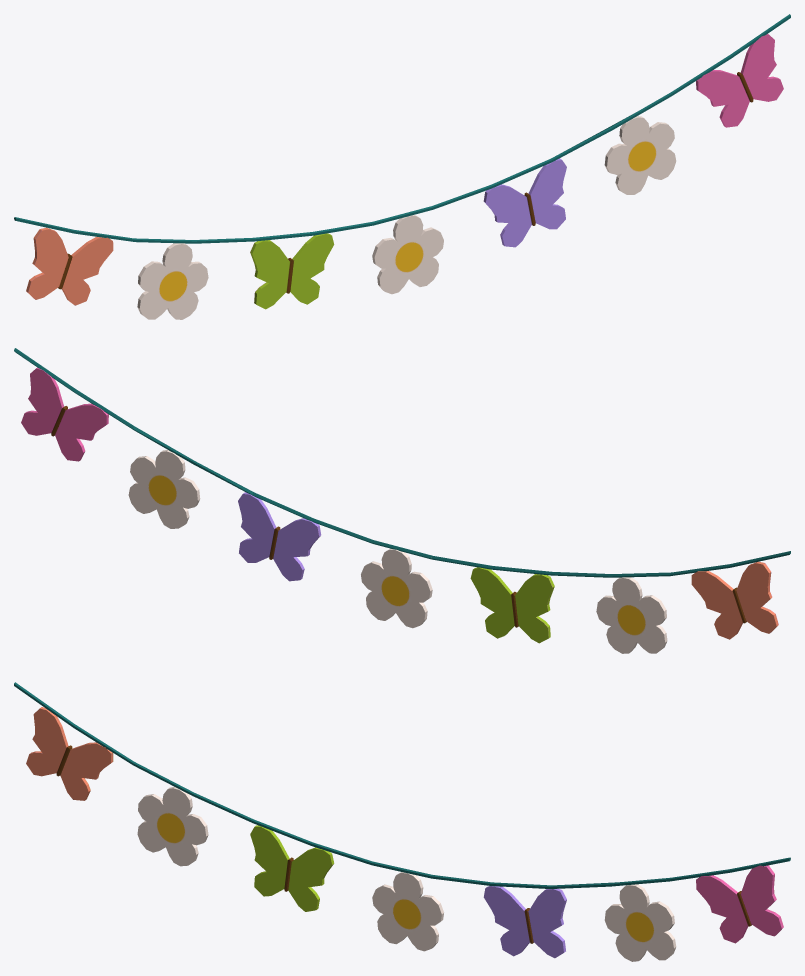
Rendered from ButterflyFlowerBanner01.fbx.
3 renders of one model, top to bottom at view 1: azimuth 30°, elevation 25°; view 2: azimuth 150°, elevation 25°; view 3: azimuth 330°, elevation 25°, orthographic.
Parts seen in each view (by area): view 1: Cube.083, Cube.085, Cube.087, Cube.089, Cube.084, Cube.086, Cube.088, Cylinder.070; view 2: Cube.083, Cube.085, Cube.087, Cube.089, Cube.084, Cube.086, Cube.088, Cylinder.070; view 3: Cube.085, Cube.083, Cube.087, Cube.089, Cube.088, Cube.084, Cube.086, Cylinder.070.
Boxes of the visible parts, box(x1,y1,x2,y2) form: Cube.083: box(26, 227, 113, 305); Cube.085: box(250, 233, 334, 309); Cube.087: box(483, 158, 566, 247); Cube.089: box(696, 34, 783, 127); Cube.084: box(137, 243, 208, 319); Cube.086: box(372, 215, 443, 294); Cube.088: box(604, 116, 676, 194); Cylinder.070: box(14, 14, 790, 243); Cube.083: box(691, 561, 778, 639); Cube.085: box(470, 567, 554, 643); Cube.087: box(238, 492, 321, 581); Cube.089: box(21, 367, 108, 461); Cube.084: box(596, 577, 667, 653); Cube.086: box(361, 549, 432, 628); Cube.088: box(128, 450, 200, 528); Cylinder.070: box(14, 348, 790, 577); Cube.085: box(250, 825, 334, 911); Cube.083: box(26, 707, 113, 800); Cube.087: box(483, 886, 566, 958); Cube.089: box(696, 865, 783, 943); Cube.088: box(604, 884, 676, 961); Cube.084: box(137, 787, 208, 866); Cube.086: box(372, 872, 443, 951); Cylinder.070: box(14, 682, 790, 888).
Bounding box in the file's own units: 2481 × 556 × 16.95.
